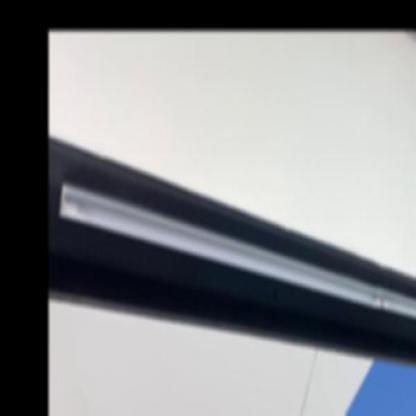light_off: (56, 141, 415, 373)
